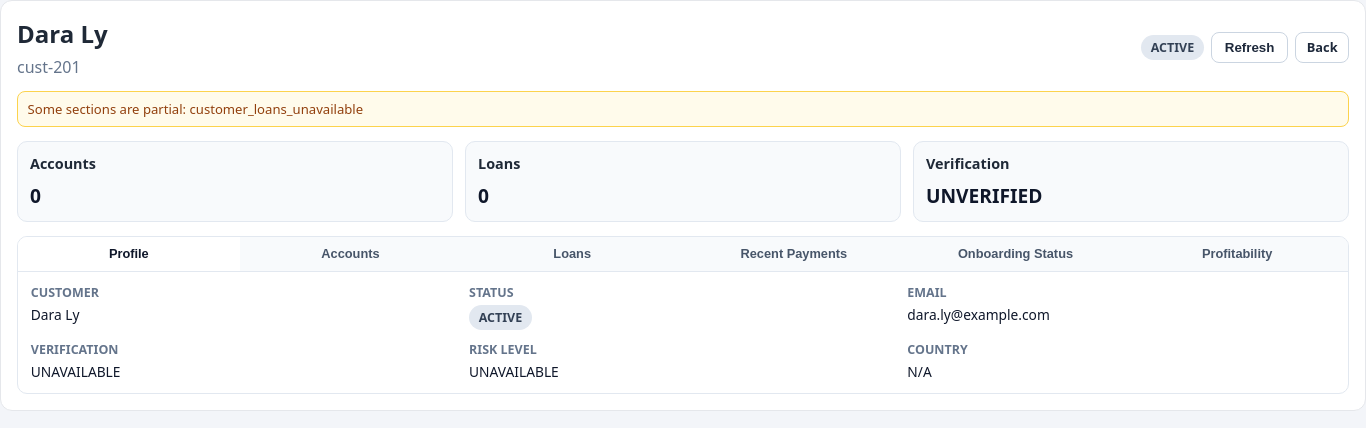
Scenario: Customer360Page › renders placeholders when partial data is missing
This screenshot has width=1366, height=428.
Expected: the text "Some sections are partial: customer_loans_unavailable" is shown, [17, 91, 1349, 127]
Click the tab "Accounts": point(351, 254) [240, 237, 461, 270]
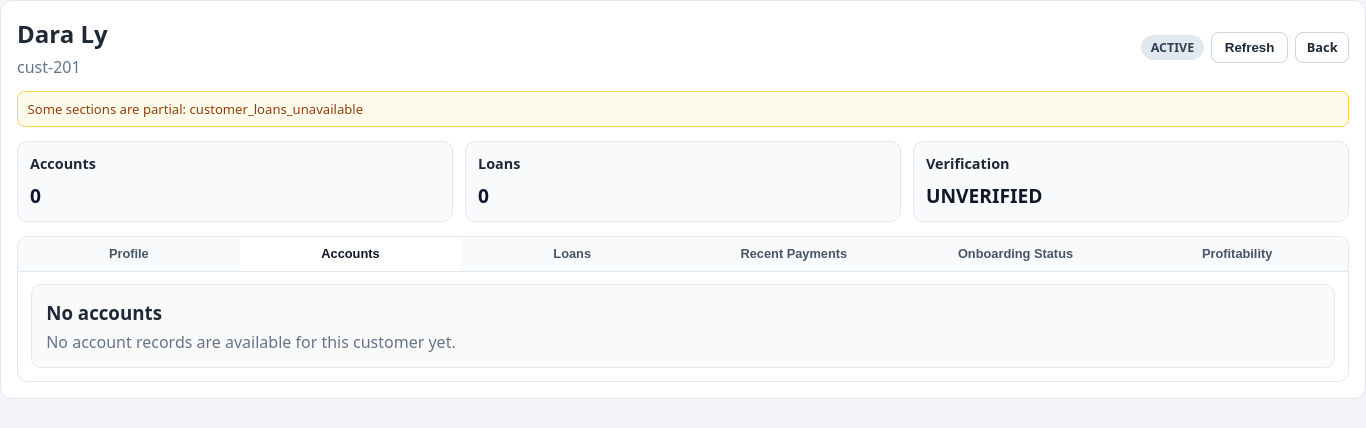
Result: the heading "No accounts" is shown at [46, 300, 162, 325]
Click the tab "Profitability": point(1237, 254) [1126, 237, 1348, 270]
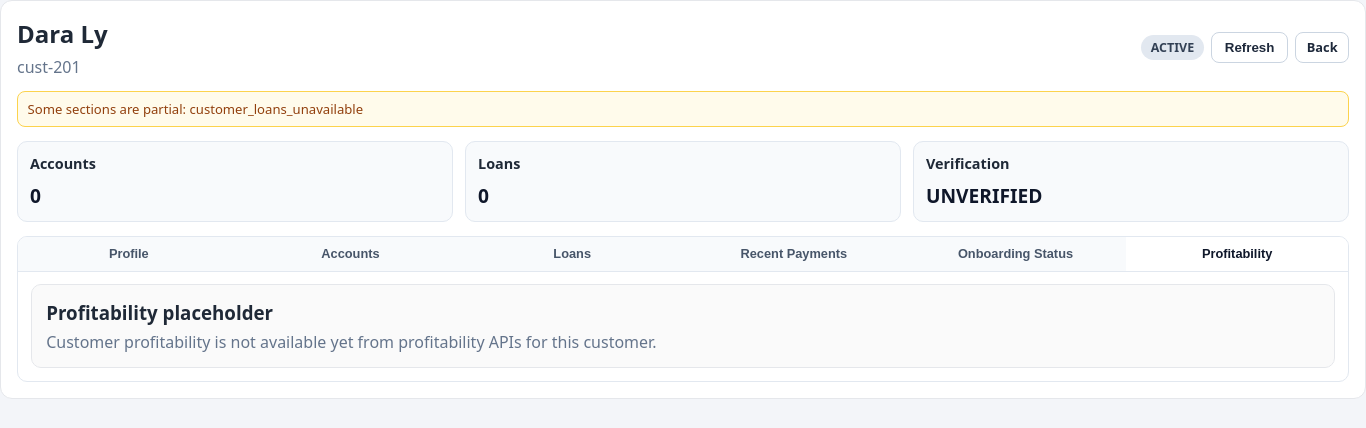
Result: the heading "Profitability placeholder" is shown at [46, 300, 273, 325]
